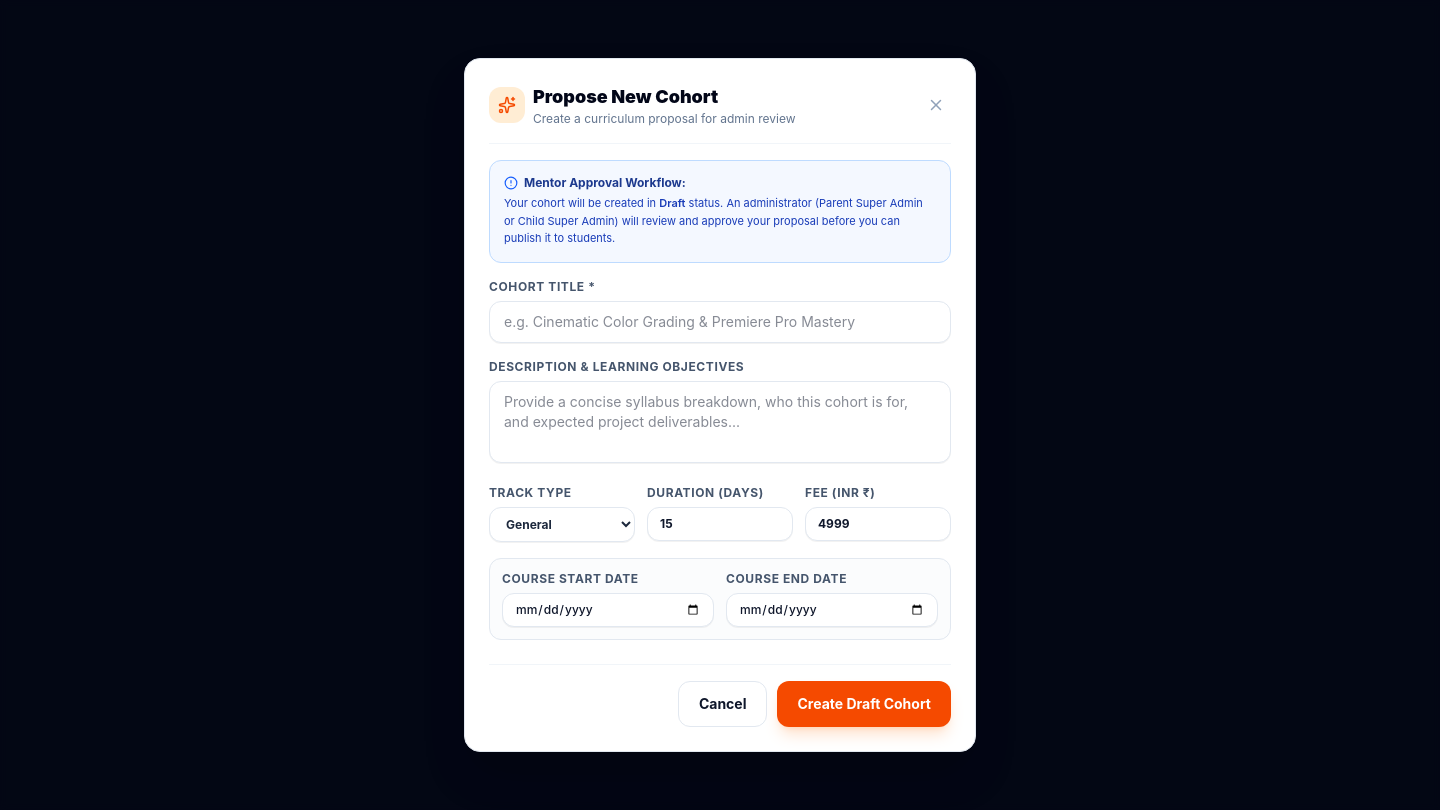
MentorCreateCohortModal Schedule & Duration Tests › auto-calculates end date when start date and duration are entered
The width and height of the screenshot is (1440, 810).
// Set start date to 2026-11-01 (default duration is 15 days)
Type "2026-11-01" into the date field labelled "Course Start Date".
click(608, 610); type("2026-11-01")  # box [502, 593, 714, 627]
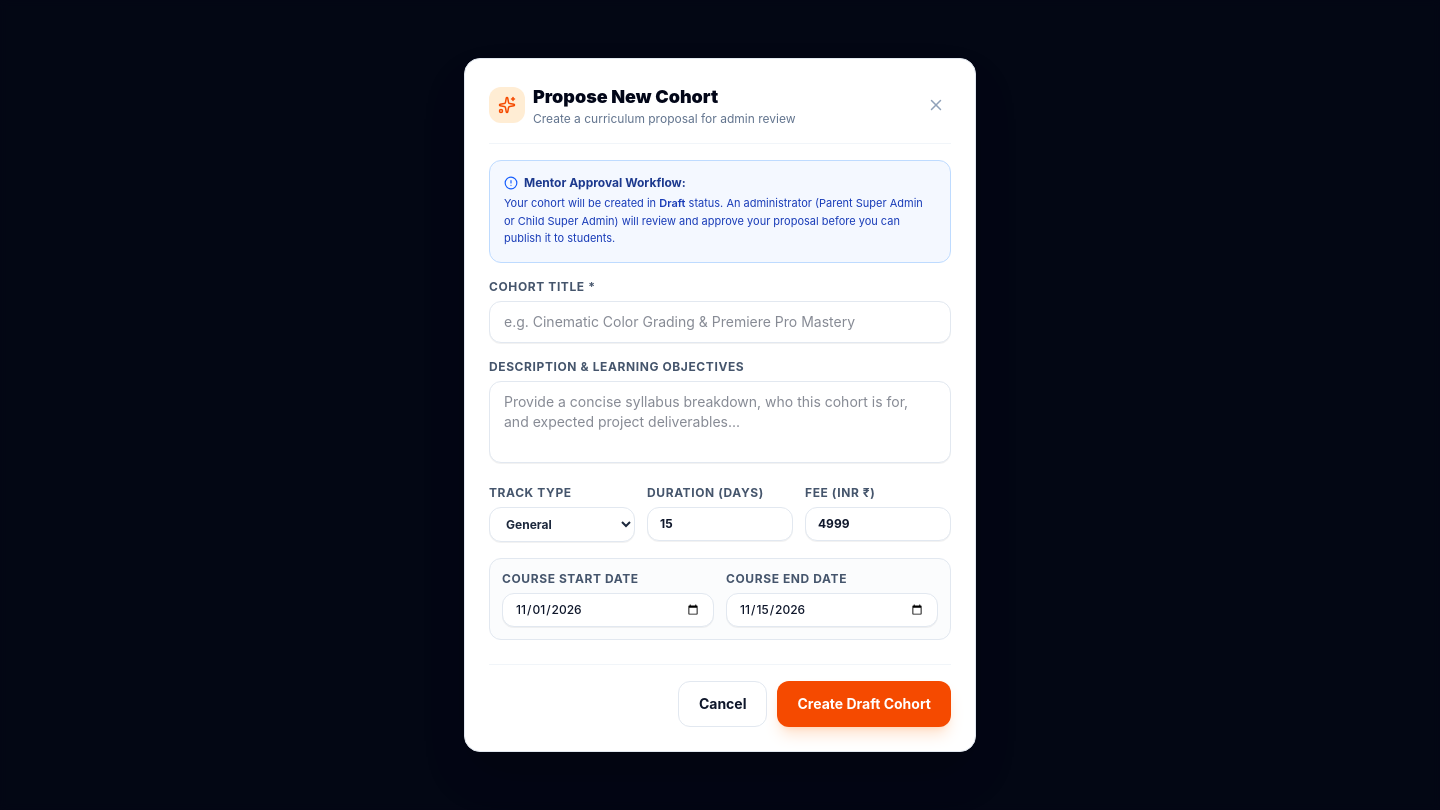
Now the date field labelled "Course End Date" holds "2026-11-15", box [726, 593, 938, 627]
